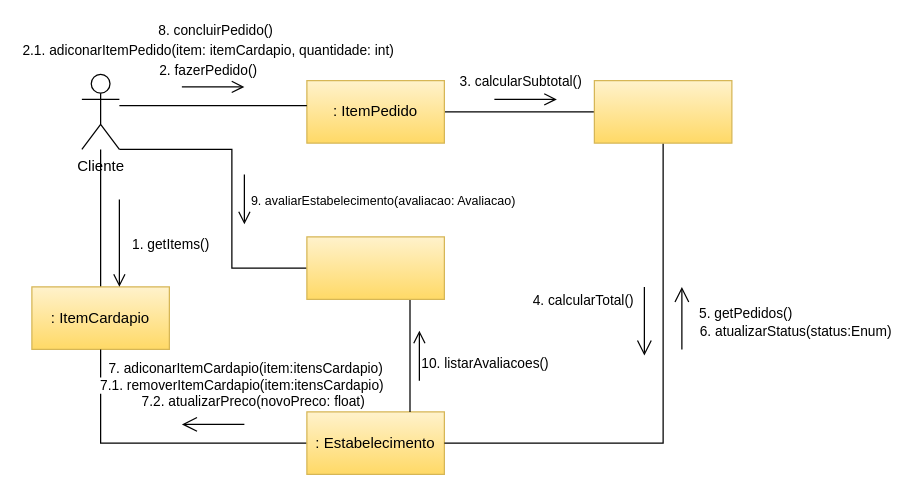
Some shapes in this 913 by 496 pixel diagram are drawn without their labels. The centre of each missing label's shape, as x and y in pixels:
: Avaliacao: point (375, 267)
: Pedido: point (662, 111)
